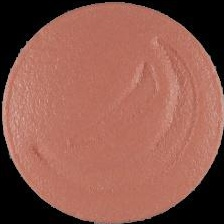63629-5220: (0, 0, 224, 224)
